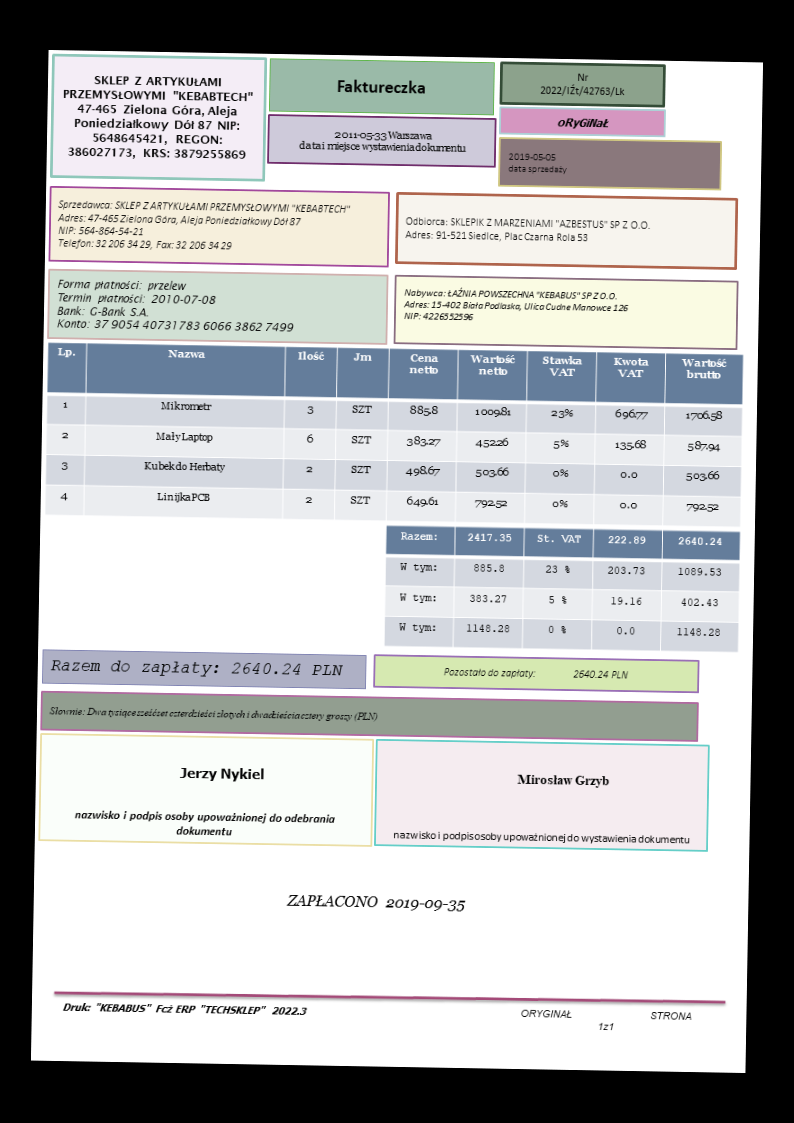Table: (42, 341, 745, 527), (383, 524, 741, 653)
TextBox: (58, 71, 256, 162), (54, 197, 351, 256), (53, 277, 296, 335), (400, 285, 629, 326), (403, 213, 651, 245), (47, 704, 380, 725), (48, 656, 344, 679), (296, 125, 469, 155), (61, 999, 308, 1018), (518, 1007, 694, 1033), (283, 891, 467, 914), (441, 664, 629, 682), (538, 68, 628, 99), (333, 77, 427, 97), (176, 764, 267, 784), (505, 150, 571, 177), (515, 772, 610, 789), (554, 114, 613, 130)
